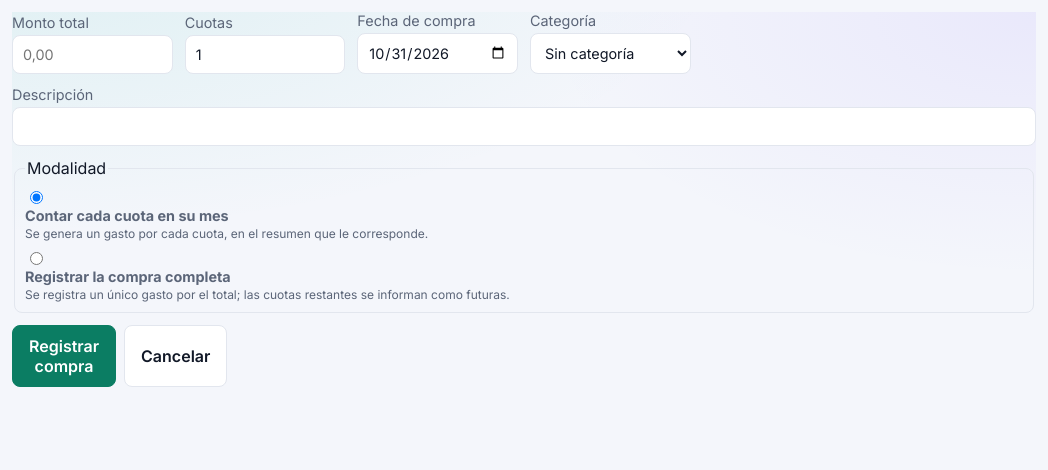
Test: FormularioCompra › rechaza cuotas fuera de 1 a 60
Type "900" into the field named "montoTotal".
click(92, 54); type("900")  # box [12, 35, 173, 74]
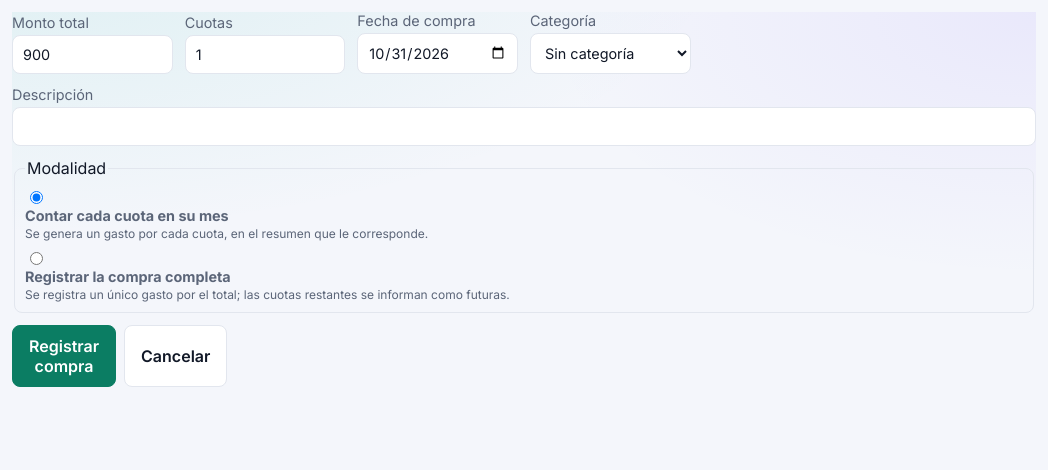
Replace the text in the number field named "cuotas" with "61" at (265, 54), box [185, 35, 345, 74]
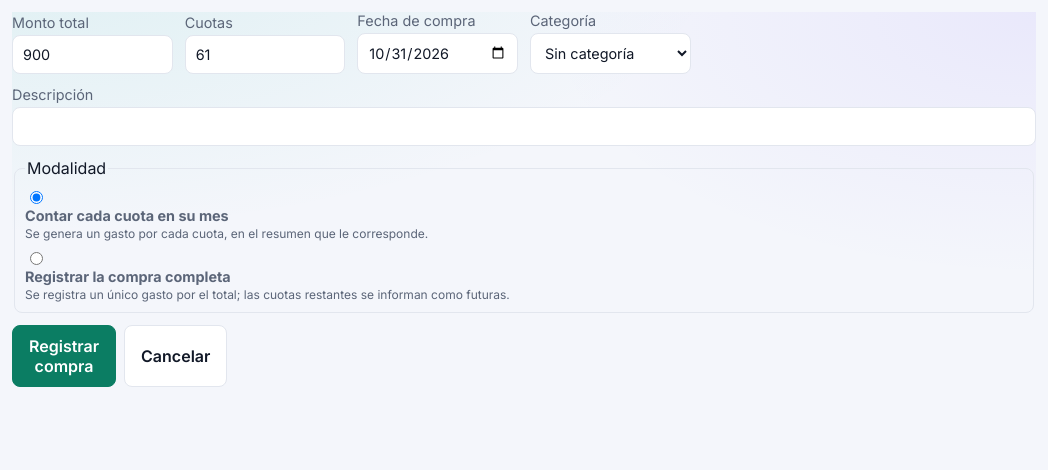
Submit the form
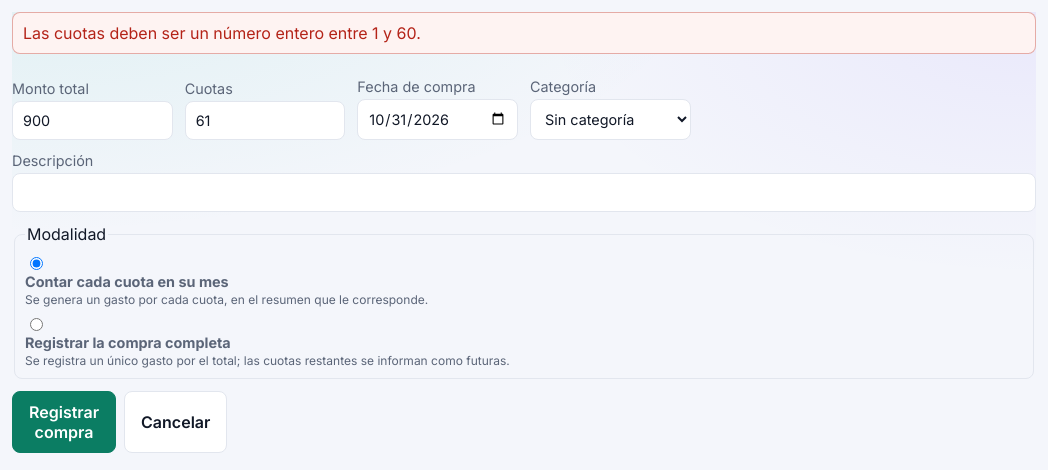
Expected: the message "Las cuotas deben ser un número entero entre 1 y 60." is shown, [12, 12, 1036, 54]
